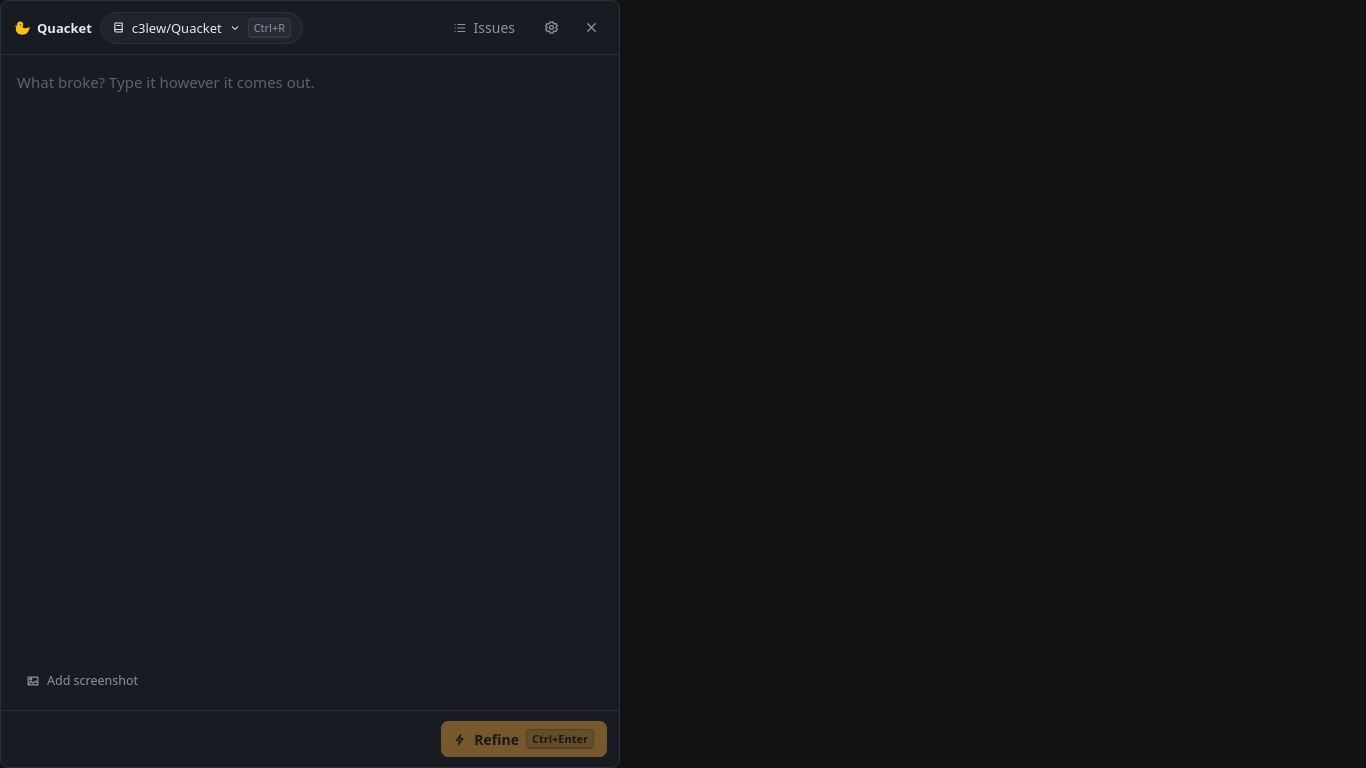
it: an image that has been marked up › SAYS SO when the marked-up image cannot be saved, instead of showing it as done
Type "the export dialog is unreadable" into the text box with placeholder "What broke? Type it however it comes out.". click: {"x": 310, "y": 361}
box: [15,69,605,653]
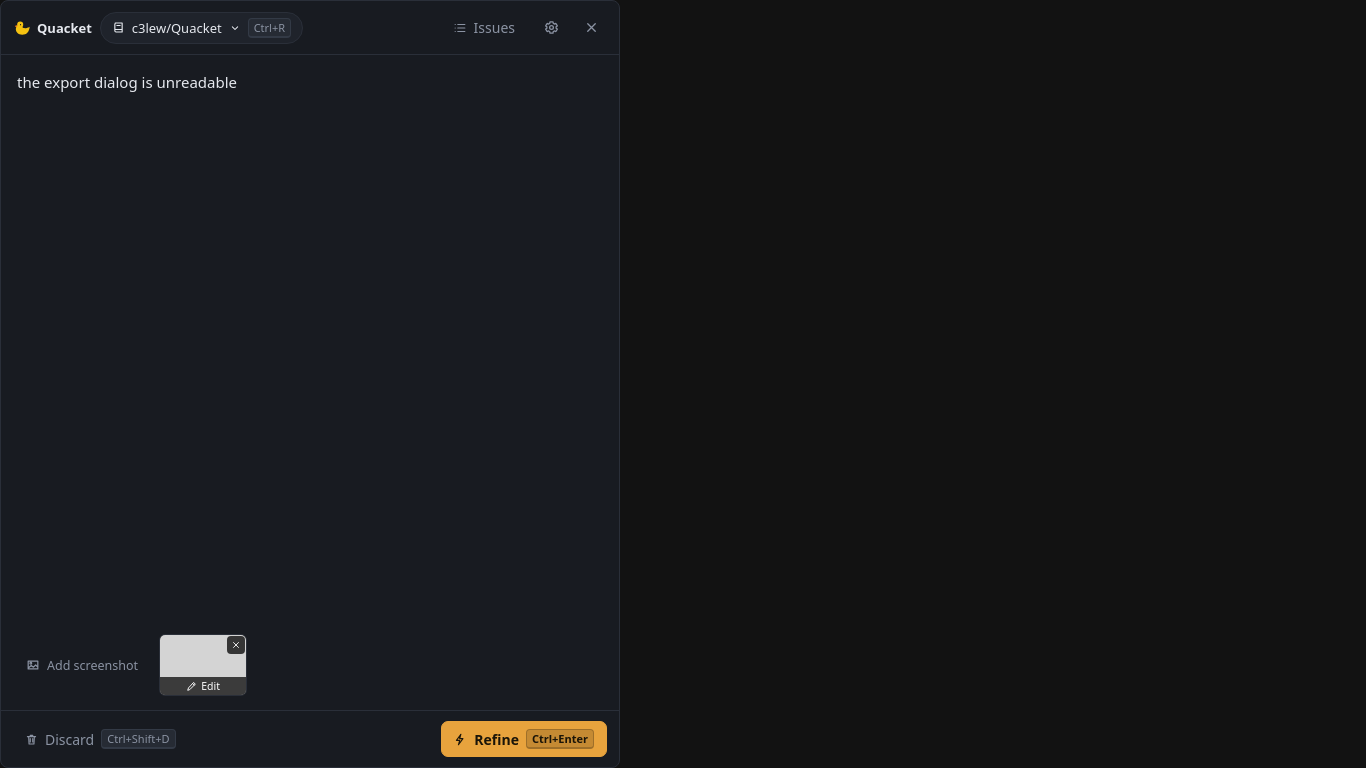
Click the button with aria-label "Edit screenshot 1". click: {"x": 203, "y": 665}
box: [159,634,247,696]
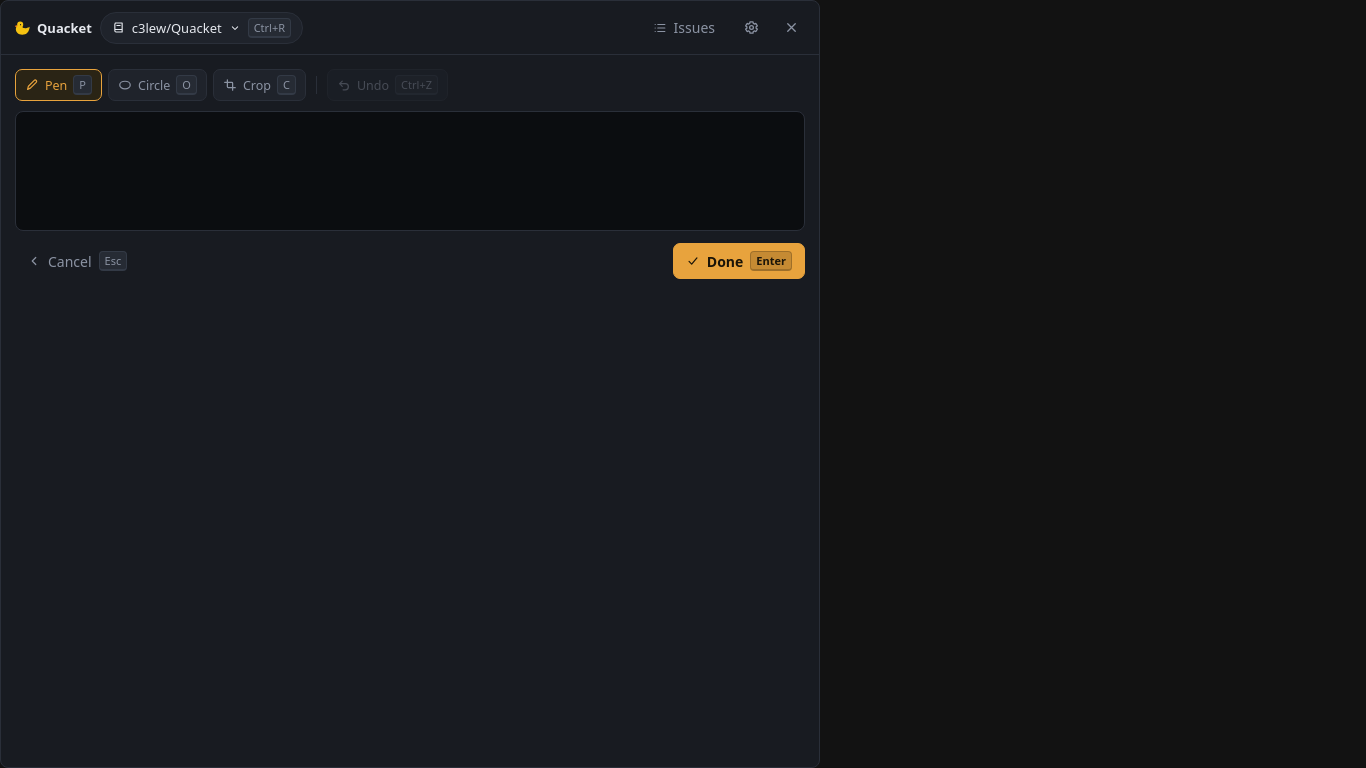
Result: the button "Done Enter" is shown
Click the button "Done Enter". click: {"x": 739, "y": 261}
box: [673,243,805,279]
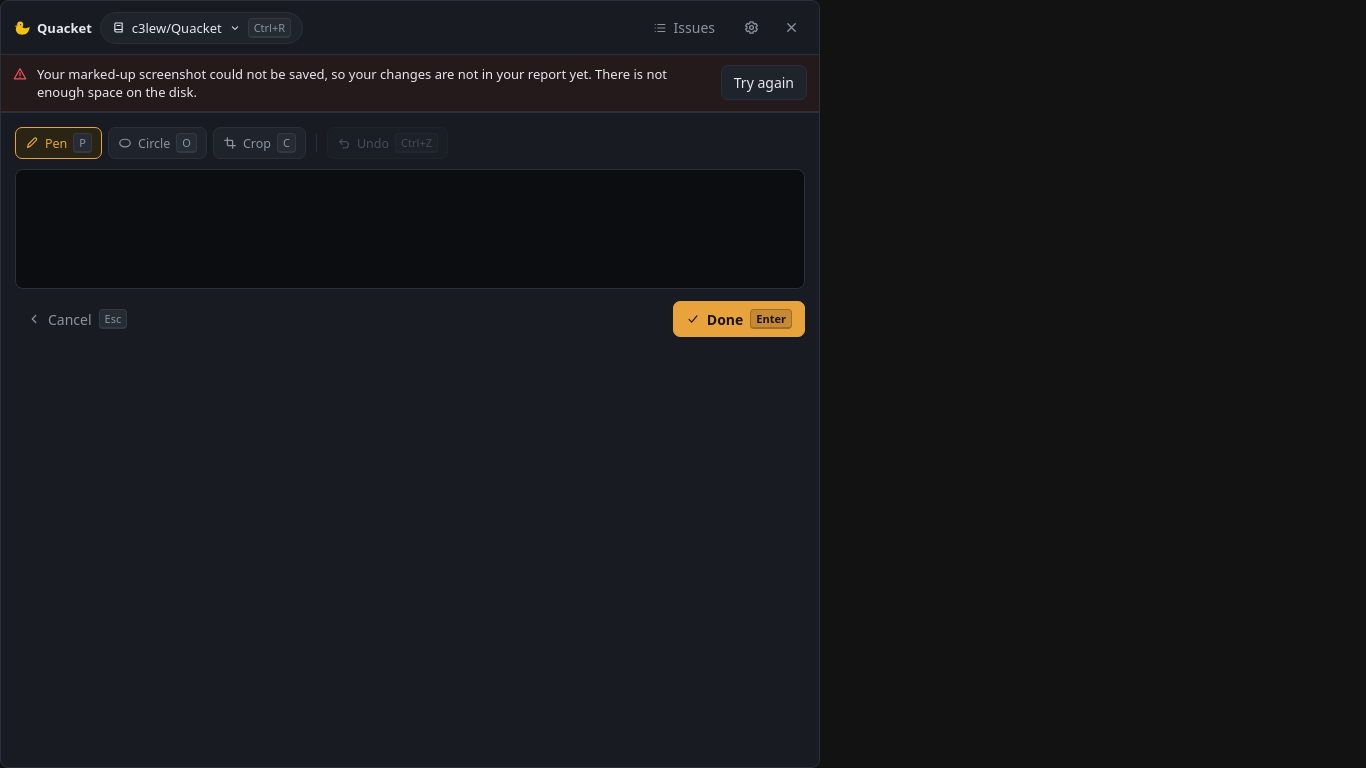
Result: the button "Done Enter" is shown at [673,301,805,337]
Result: the text "There is not enough space on the disk." is shown at [37,65,667,101]
